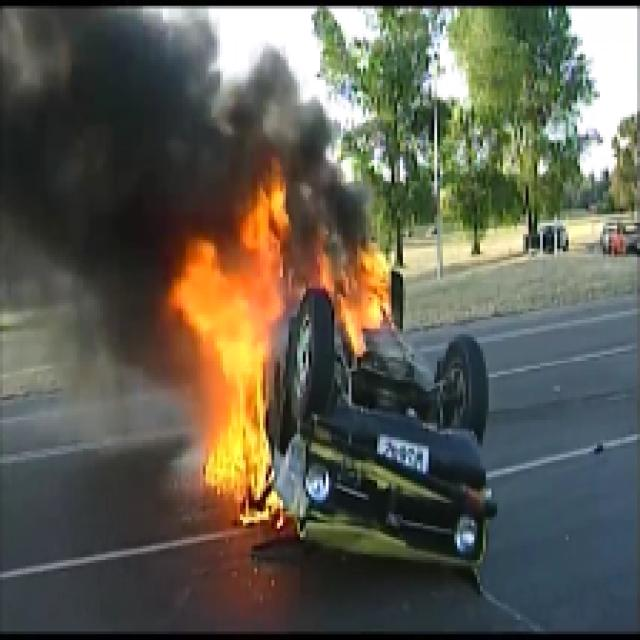fire: (184, 228, 285, 492)
smoke: (40, 24, 177, 308), (188, 87, 312, 194)
